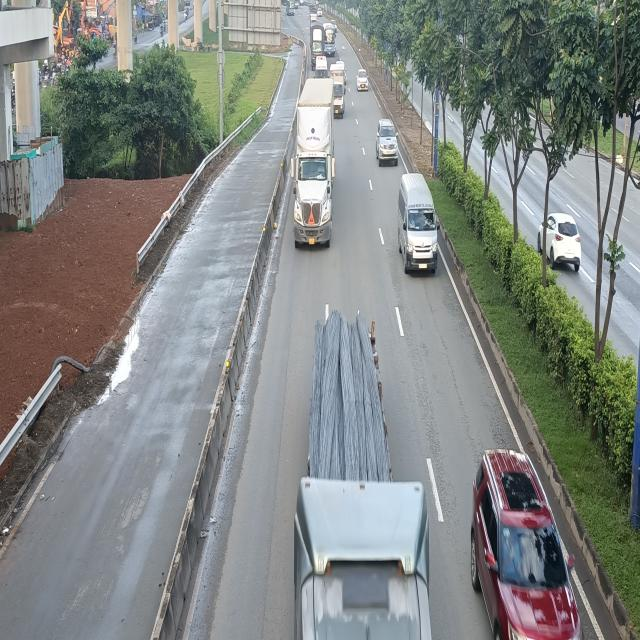car: (472, 447, 585, 638), (376, 118, 400, 166), (356, 70, 369, 92)
coach: (324, 22, 336, 56)
container: (292, 304, 455, 638), (291, 78, 338, 248)
van: (401, 172, 442, 275)
